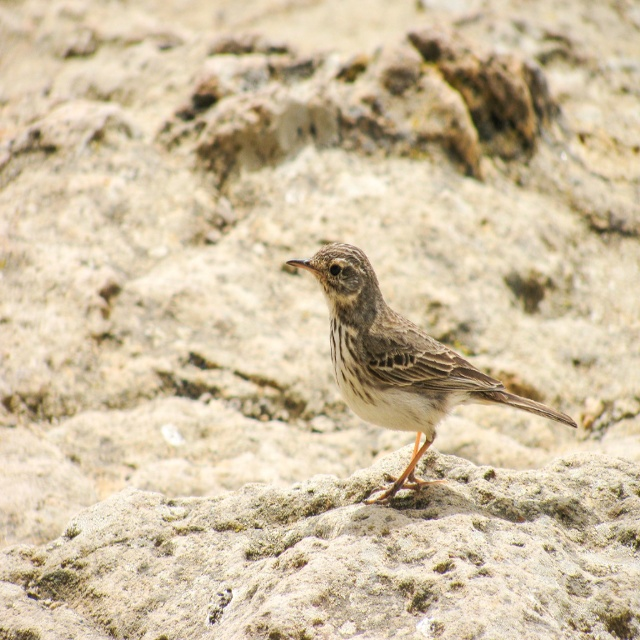Sparrow: (285, 243, 577, 504)
